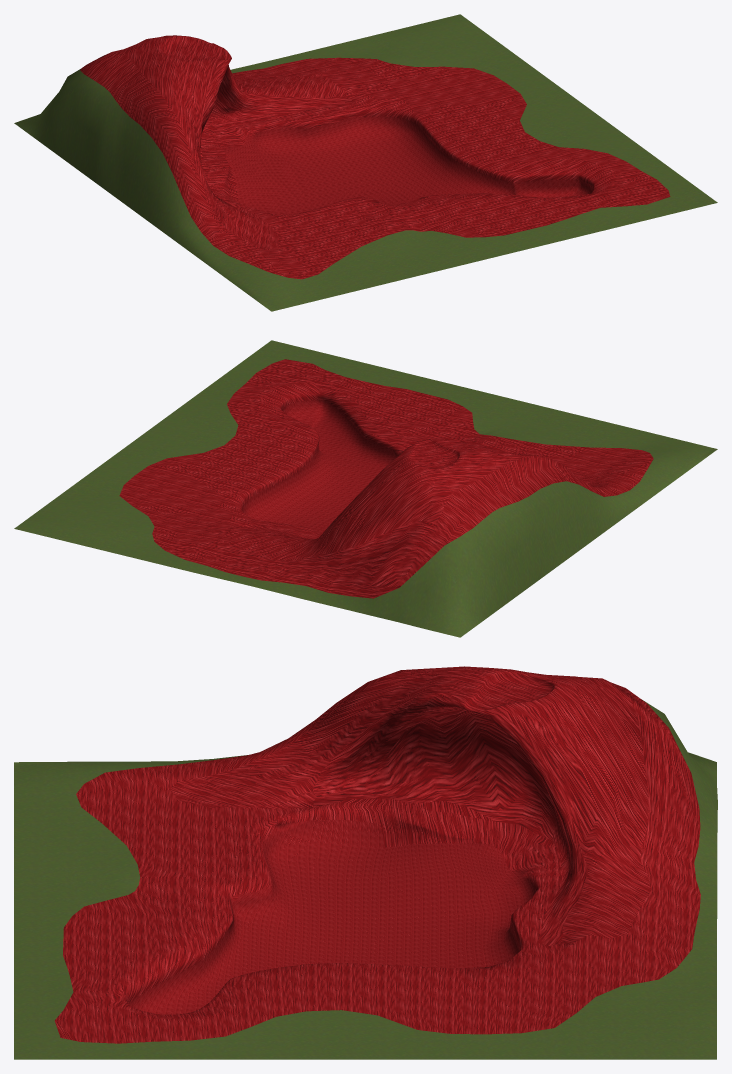
File: hometemplate_mainstructure.glb
The picture shows the model from 3 angles, top to bottom: view 1: azimuth 30°, elevation 25°; view 2: azimuth 150°, elevation 25°; view 3: azimuth 270°, elevation 25°; orthographic projection. The views are drawn at different scales.
Parts seen in each view (by area): view 1: baseGround; view 2: baseGround; view 3: baseGround.
Boxes of the visible parts, x1,y1,x2,y2 form: baseGround: [14, 14, 717, 311]; baseGround: [14, 340, 717, 637]; baseGround: [14, 666, 717, 1059].
Size of what is drawn, in the model's own units: 128 by 36.54 by 128.
2 materials, 2 textured.
